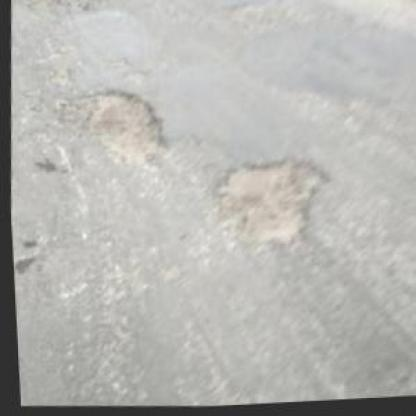pothole: (201, 148, 338, 258), (62, 83, 172, 180)
